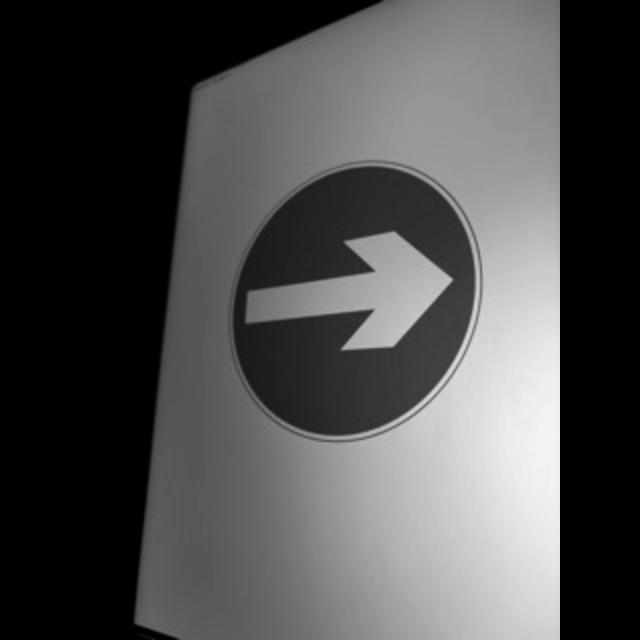TURN RIGHT: (224, 158, 486, 448)
